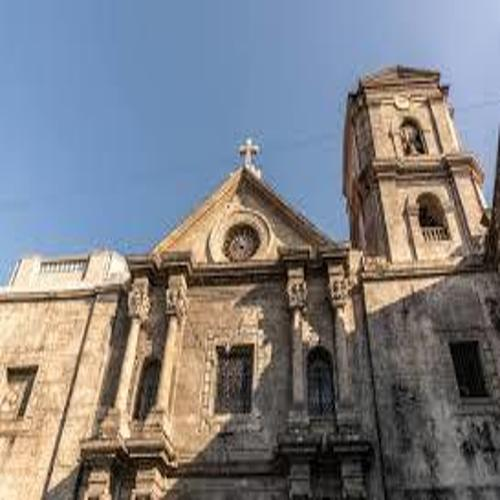San Agustin Church: (104, 56, 500, 500)
